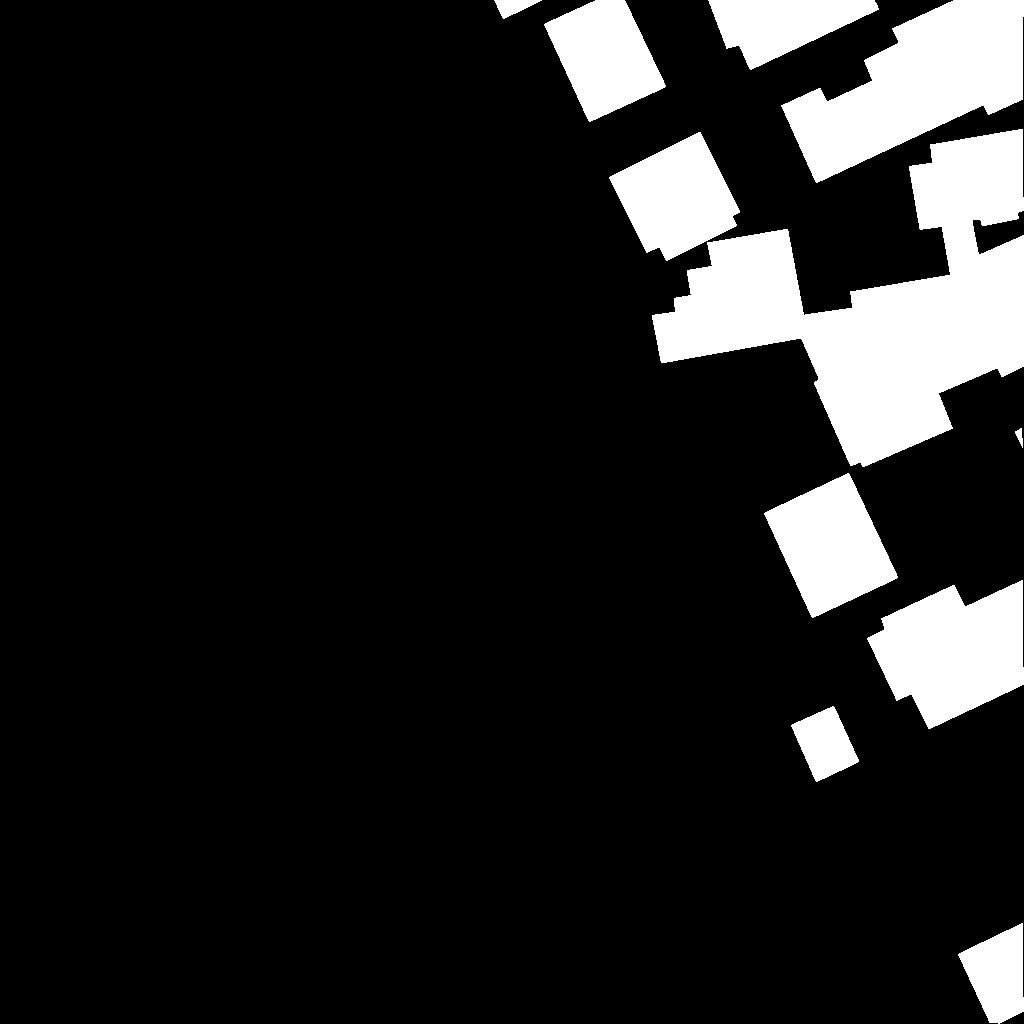building: (652, 129, 1024, 468), (781, 0, 1024, 184), (867, 580, 1024, 730), (764, 473, 899, 619), (609, 132, 741, 262), (544, 0, 667, 123), (708, 0, 880, 71), (958, 923, 1024, 1024), (791, 706, 860, 783), (494, 0, 544, 20), (1015, 428, 1024, 450)
